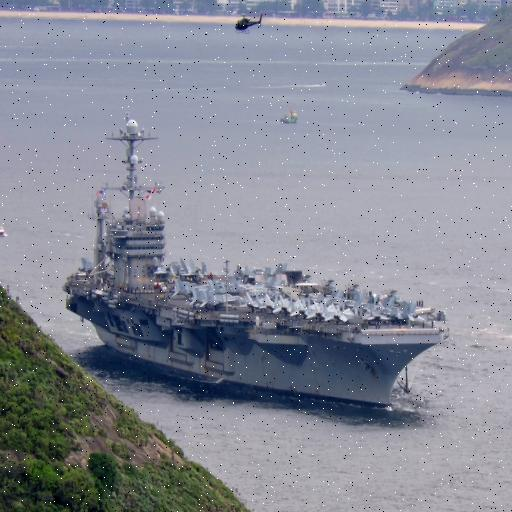Portanaves: (61, 107, 452, 418)
